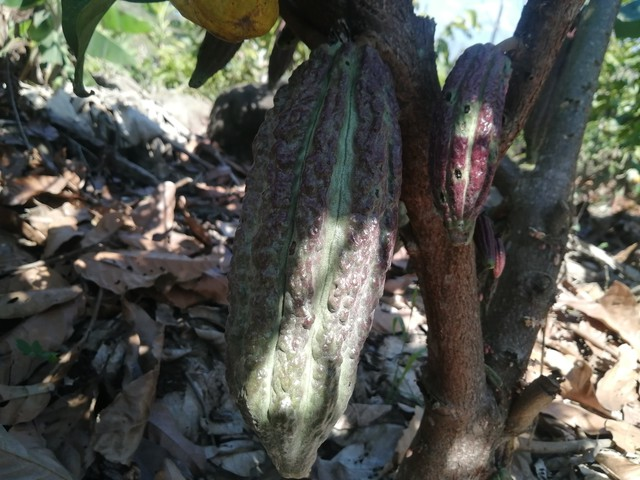Health: (210, 26, 422, 480)
